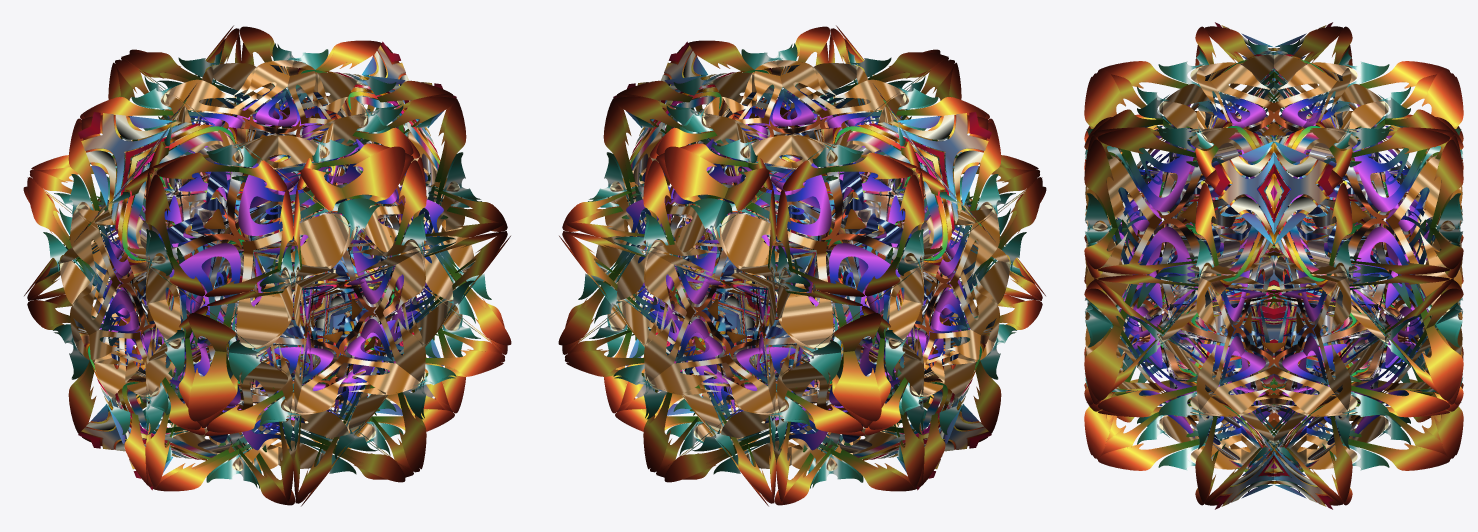
Rendered from UniformGreatRhombicuboctahedron12.gltf.
3 renders of one model, left to right at view 1: azimuth 30°, elevation 25°; view 2: azimuth 150°, elevation 25°; view 3: azimuth 270°, elevation 25°, orthographic. The views are drawn at different scales.
Visible parts, largest first — view 1: UniformGreatRhombicuboctahedron12; view 2: UniformGreatRhombicuboctahedron12; view 3: UniformGreatRhombicuboctahedron12.
Boxes of the visible parts, x1=… form: UniformGreatRhombicuboctahedron12: x1=23, y1=25, x2=511, y2=506; UniformGreatRhombicuboctahedron12: x1=558, y1=25, x2=1046, y2=506; UniformGreatRhombicuboctahedron12: x1=1084, y1=22, x2=1463, y2=509.
Size of the model in its own units: 1 by 1 by 1.
1 material, 1 textured.
